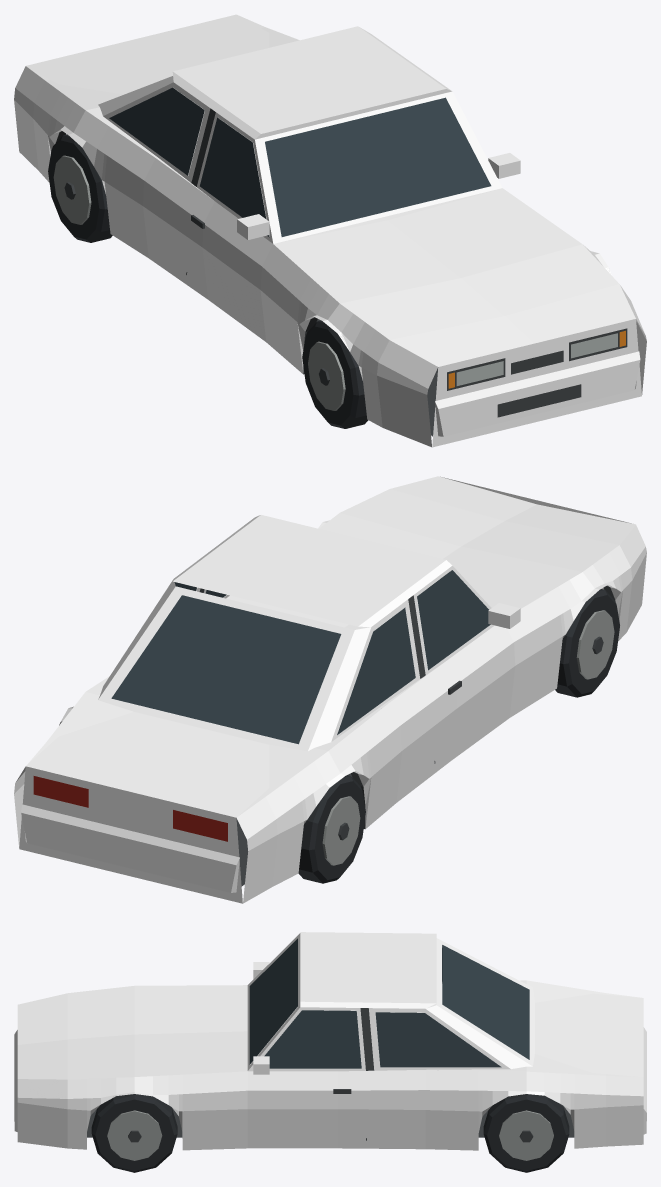
The model's file is sanga_kamome.glb.
The picture shows the model from 3 angles, top to bottom: view 1: azimuth 30°, elevation 25°; view 2: azimuth 150°, elevation 25°; view 3: azimuth 270°, elevation 25°; orthographic projection. The views are drawn at different scales.
Parts seen in each view (by area): view 1: sanga_kamome; view 2: sanga_kamome; view 3: sanga_kamome.
Part boxes in pixels (box(x1,y1,x2,y2)): sanga_kamome: box(14, 14, 646, 447); sanga_kamome: box(14, 476, 646, 903); sanga_kamome: box(14, 932, 646, 1172).
Bounding box in the file's own units: 1.78 × 1.25 × 4.57.
8 materials, 1 textured.
